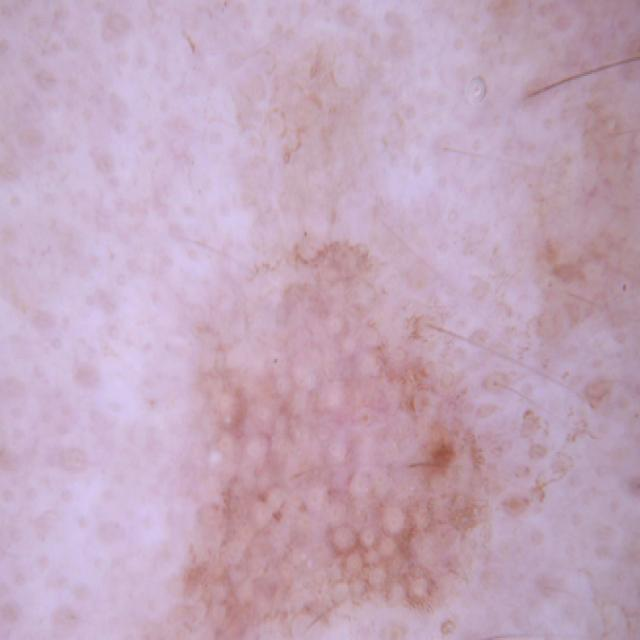Melanoma: (143, 211, 530, 640)
